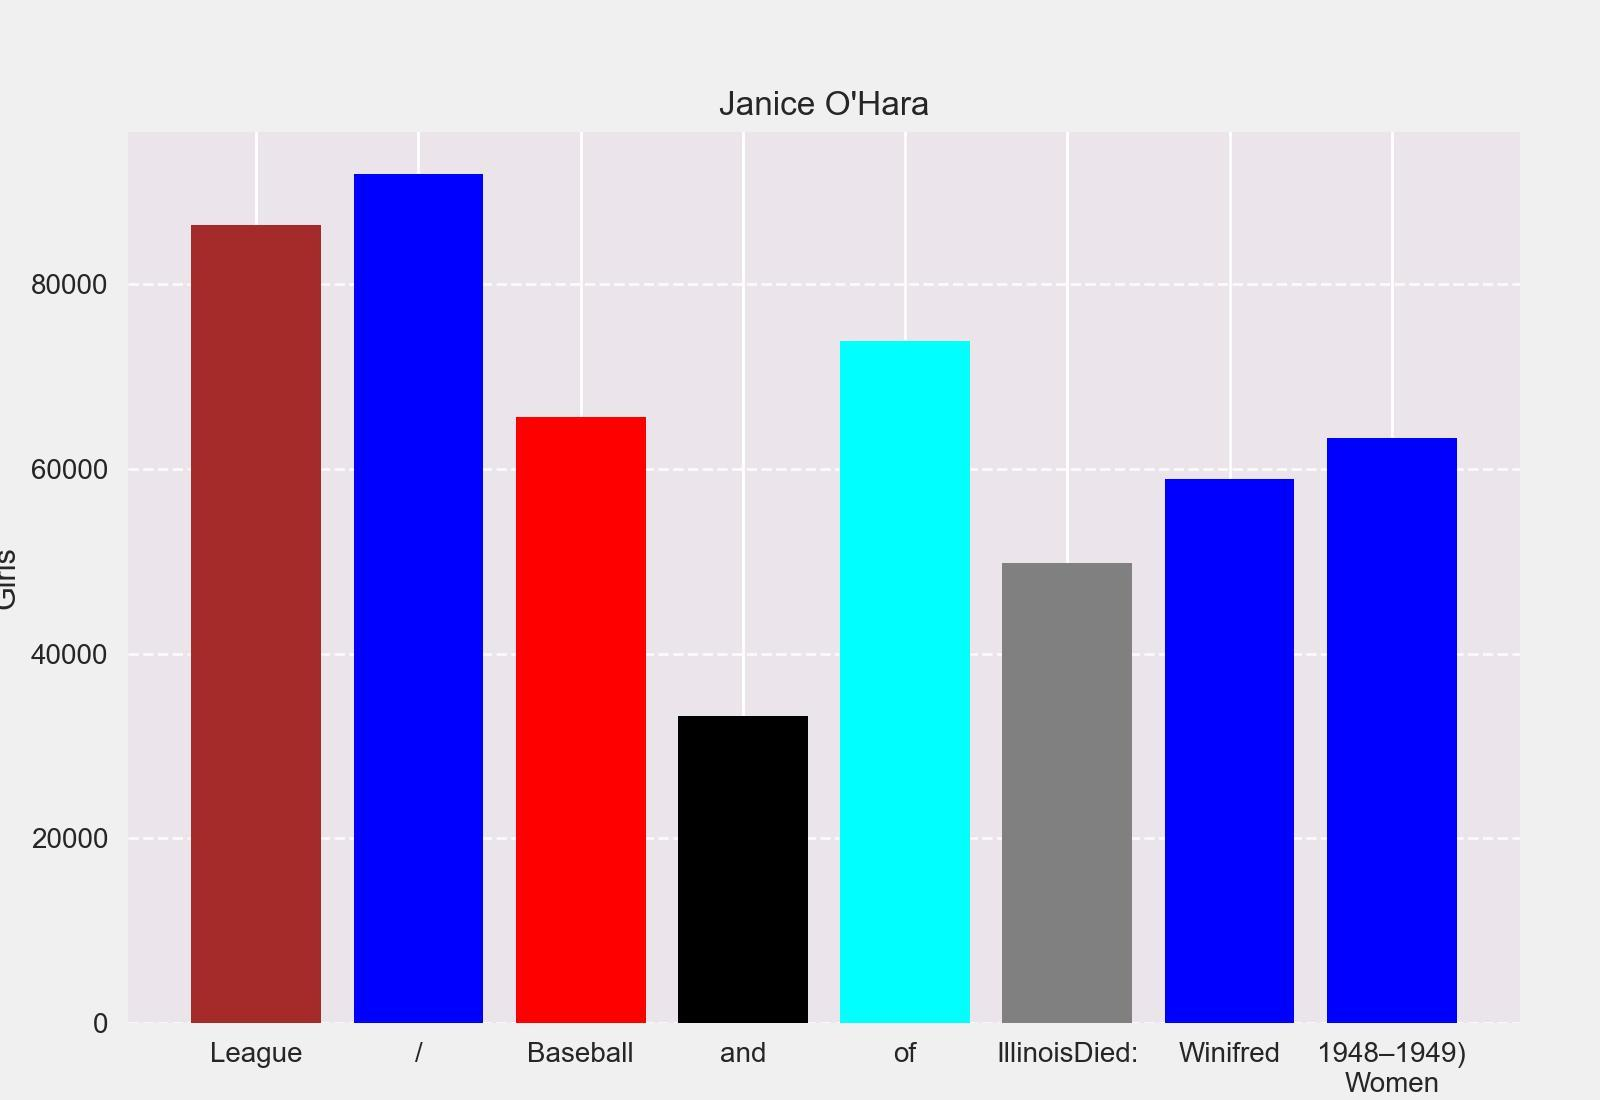axis: (0, 273, 109, 1039)
rectangle: (354, 174, 484, 1023), (191, 225, 321, 1023), (840, 342, 970, 1023), (516, 417, 646, 1023), (1326, 438, 1457, 1023), (1165, 479, 1295, 1023), (1003, 563, 1132, 1023), (678, 716, 809, 1023)
